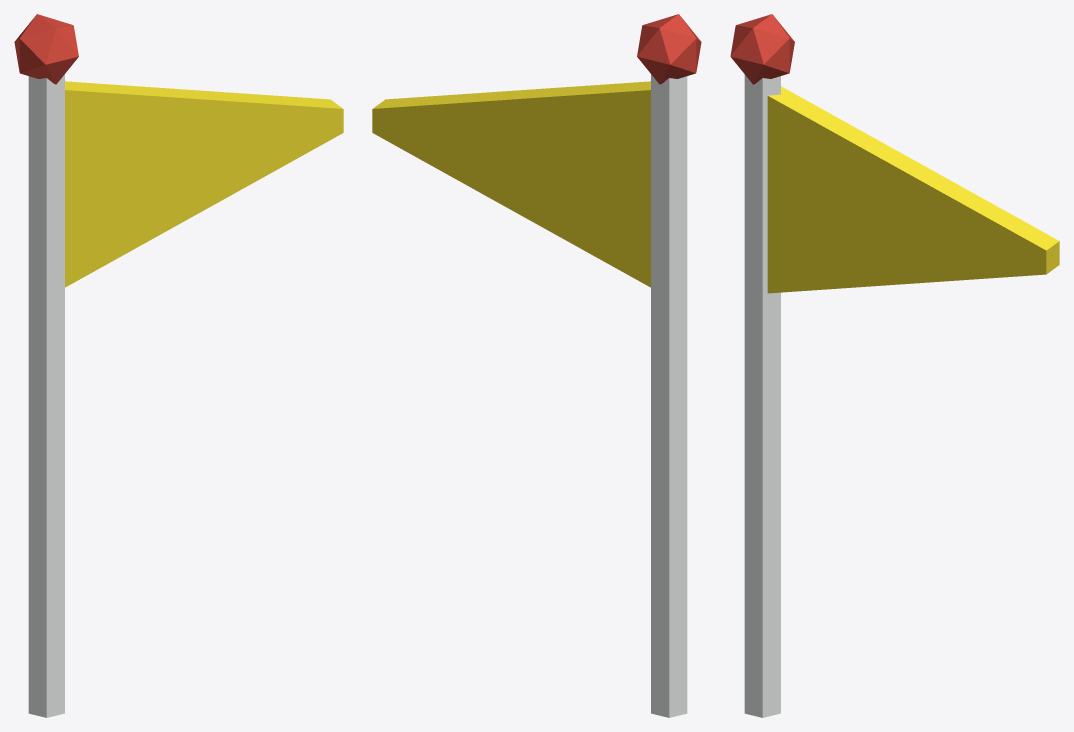
File: flag.glb
3 renders of one model, left to right at view 1: azimuth 30°, elevation 25°; view 2: azimuth 150°, elevation 25°; view 3: azimuth 330°, elevation 25°, orthographic.
Parts seen in each view (by area): view 1: Pennant, Pole, Knob; view 2: Pennant, Pole, Knob; view 3: Pennant, Pole, Knob.
Part boxes in pixels (box(x1,y1,x2,y2)): Pennant: box(65, 81, 343, 287); Pole: box(28, 74, 64, 717); Knob: box(14, 14, 78, 84); Pennant: box(372, 81, 650, 287); Pole: box(651, 74, 687, 717); Knob: box(637, 14, 701, 84); Pennant: box(767, 86, 1059, 293); Pole: box(744, 74, 780, 717); Knob: box(730, 14, 794, 84).
Size of the model in its own units: 0.6995 by 1.45 by 0.1191.
